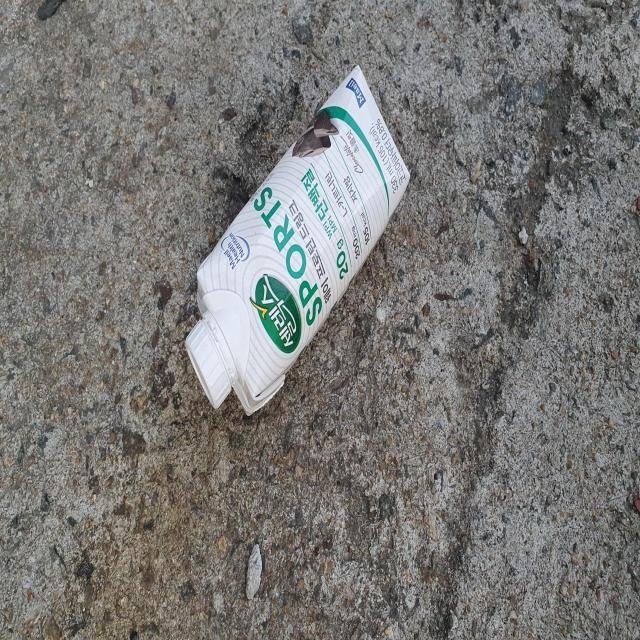paperpack: (185, 65, 410, 414)
